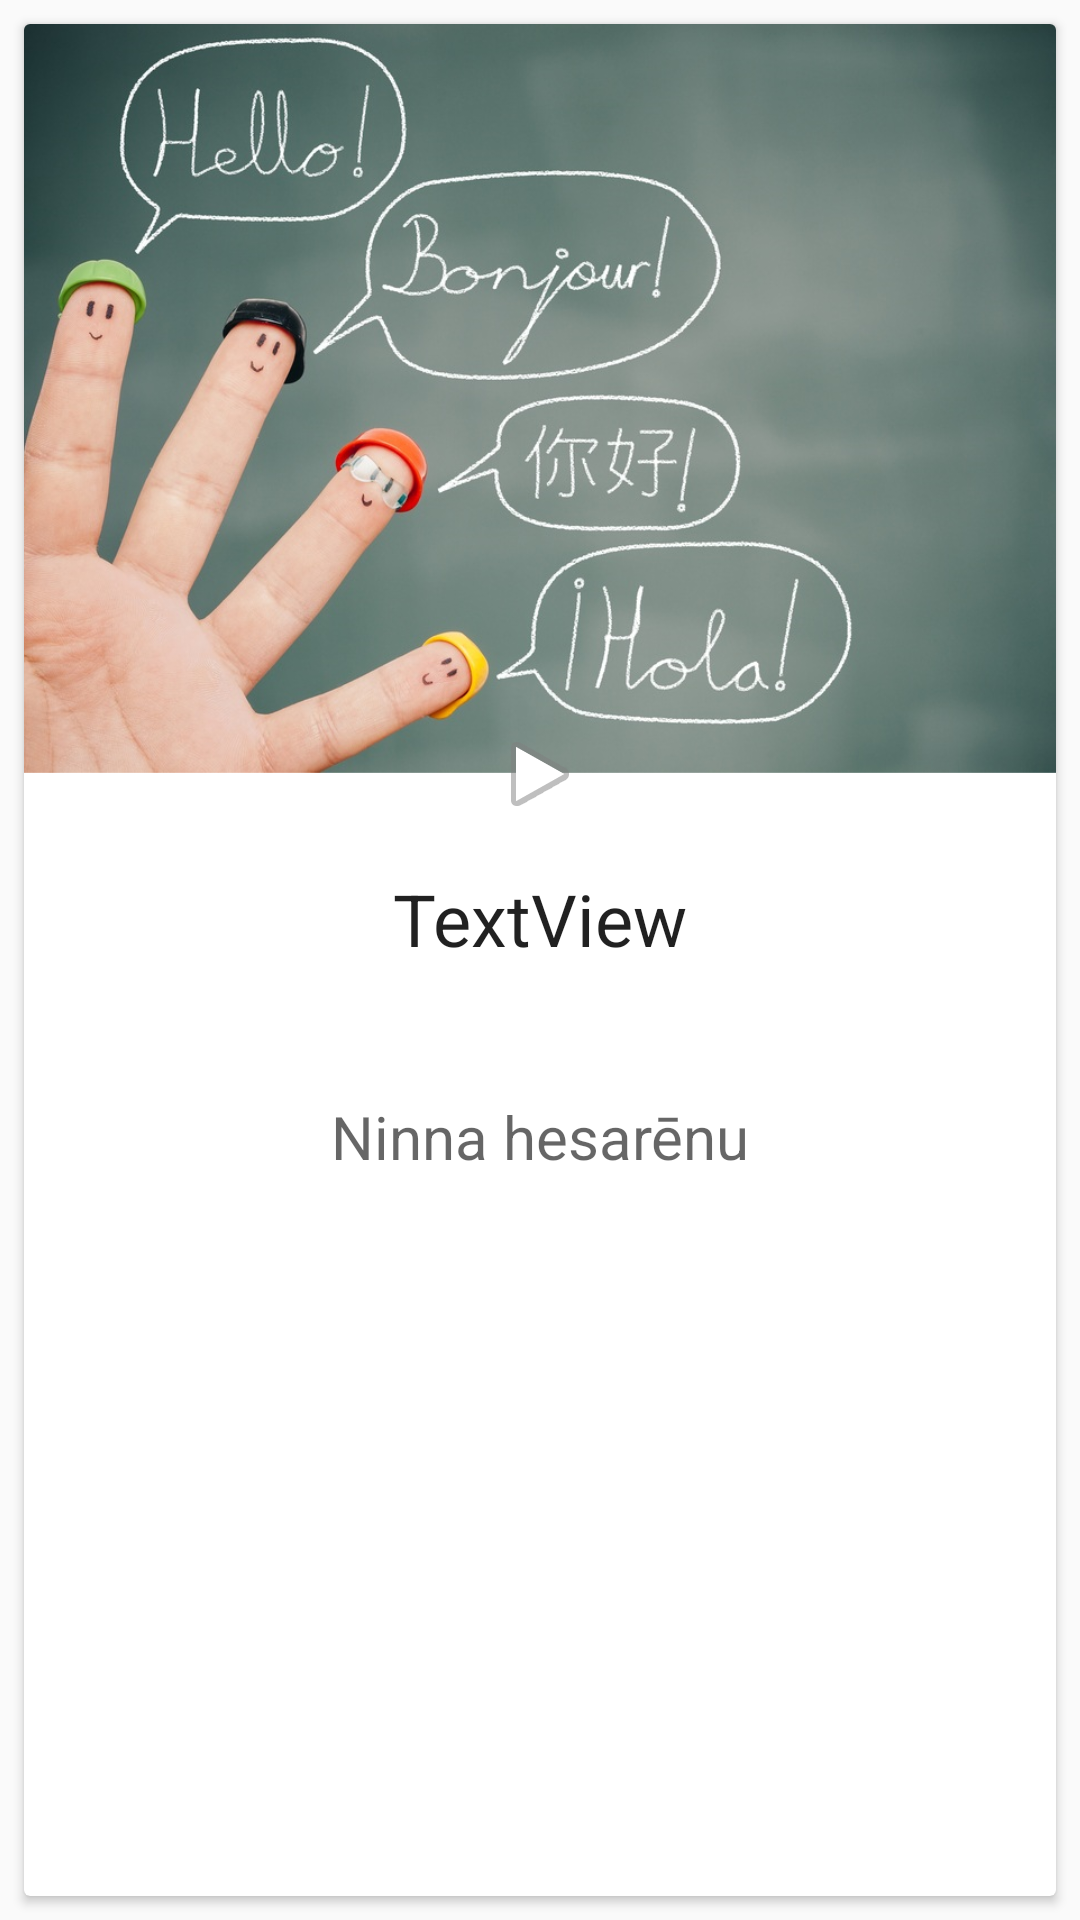

Icon click points for this 1080×1920 phone screenshot, format (x,y):
play: (540,774)
